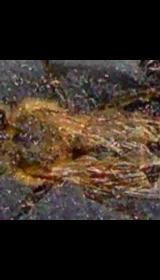varroa_mite: (82, 160, 115, 184)
